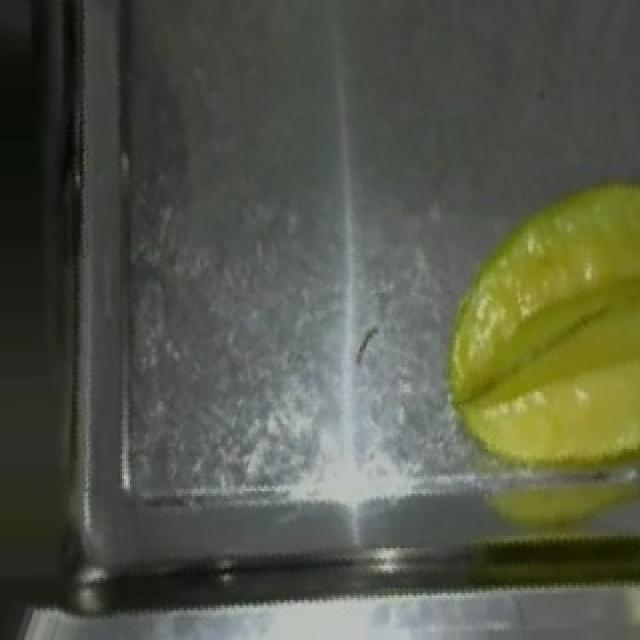fruit: (428, 149, 640, 503)
